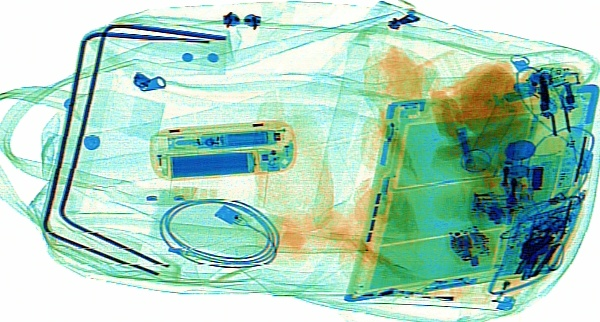lighter: (487, 221, 531, 311)
